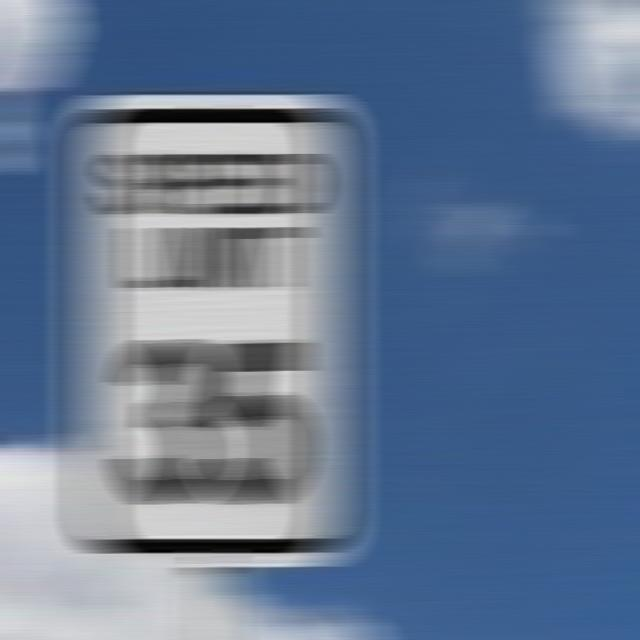speedLimit35: (63, 80, 354, 580)
